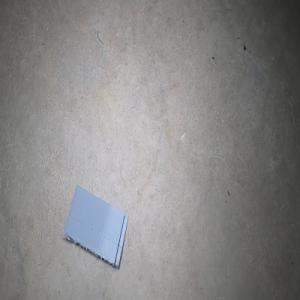PlasticPart: (61, 184, 128, 269)
